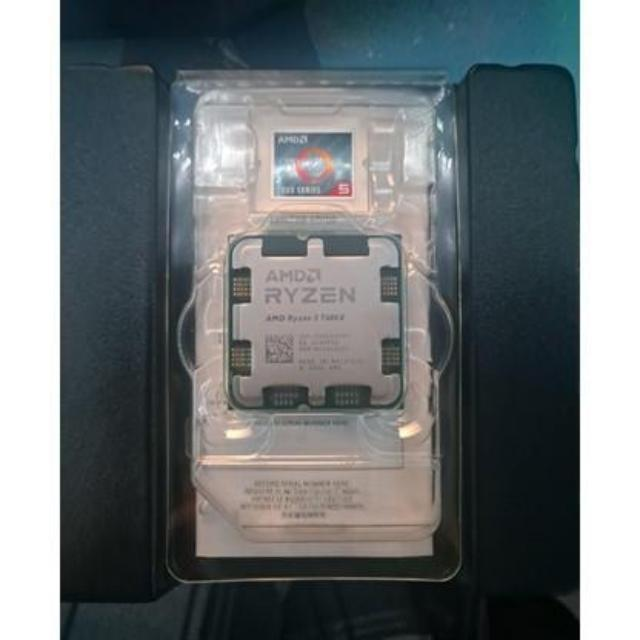CPU: (230, 236, 402, 408)
